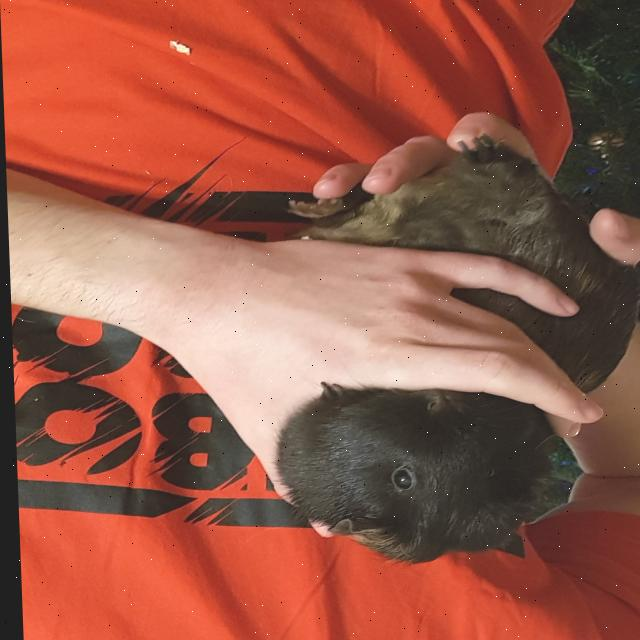guinea pig: (259, 133, 640, 567)
